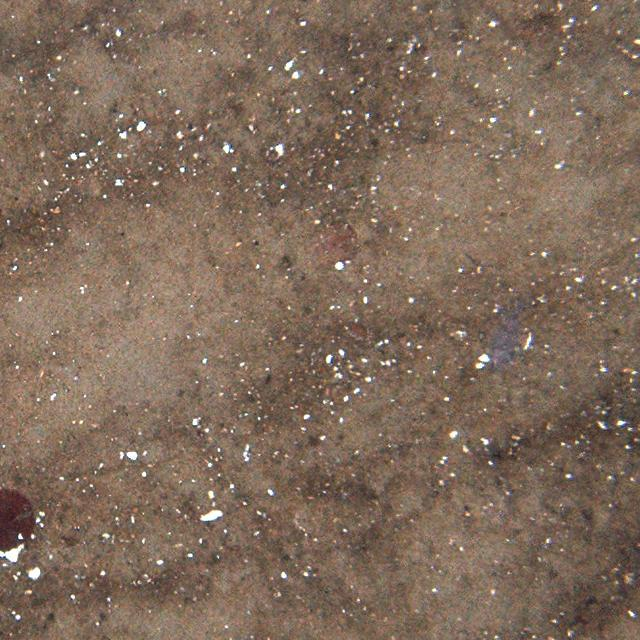flatfish: (485, 290, 530, 374)
